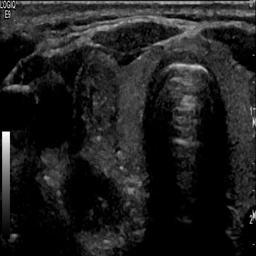mass: (78, 57, 118, 129)
